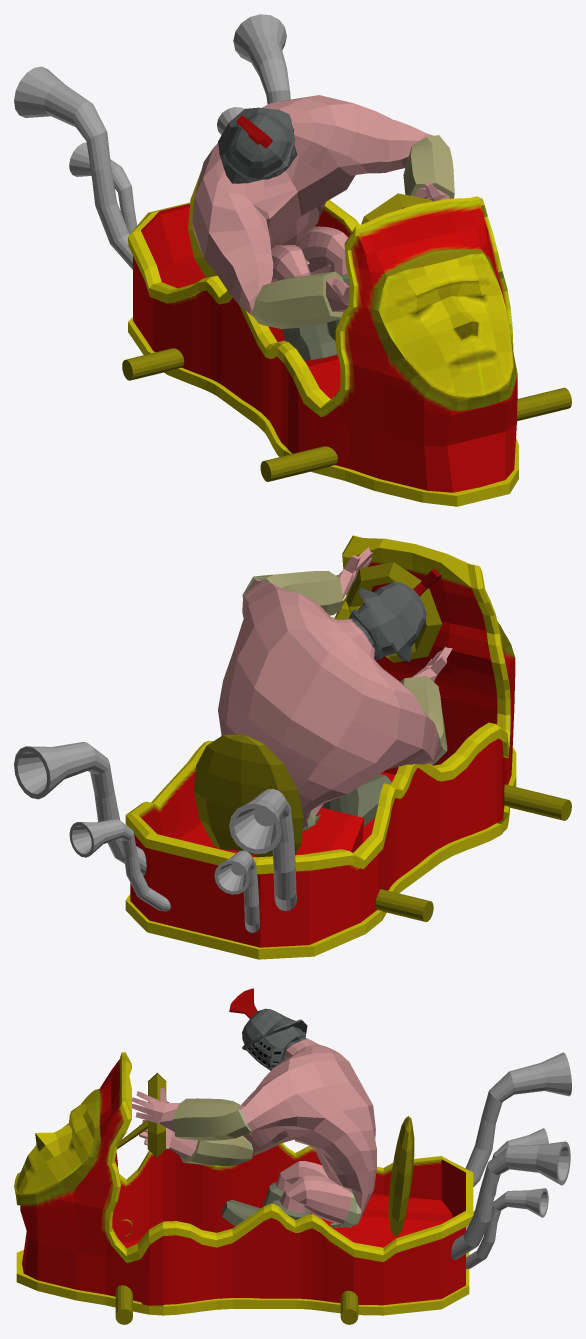
Rendered from GladiGiroDer_000554.obj.
The picture shows the model from 3 angles, top to bottom: view 1: azimuth 30°, elevation 25°; view 2: azimuth 150°, elevation 25°; view 3: azimuth 270°, elevation 25°; orthographic projection. The views are drawn at different scales.
Parts seen in each view (by area): view 1: GladiChasis_GladiChasisH, Gadiador_Gladiador_H, GladiTubos_GladiTubosH, GladiVolante_GladiVolanteH; view 2: GladiChasis_GladiChasisH, Gadiador_Gladiador_H, GladiTubos_GladiTubosH, GladiVolante_GladiVolanteH; view 3: GladiChasis_GladiChasisH, Gadiador_Gladiador_H, GladiTubos_GladiTubosH, GladiVolante_GladiVolanteH.
Boxes of the visible parts, bbox=[...] form: GladiChasis_GladiChasisH: bbox=[128, 196, 518, 506]; Gadiador_Gladiador_H: bbox=[192, 95, 454, 360]; GladiTubos_GladiTubosH: bbox=[14, 14, 290, 269]; GladiVolante_GladiVolanteH: bbox=[122, 172, 571, 481]; GladiChasis_GladiChasisH: bbox=[125, 535, 516, 959]; Gadiador_Gladiador_H: bbox=[218, 547, 452, 830]; GladiTubos_GladiTubosH: bbox=[14, 742, 296, 932]; GladiVolante_GladiVolanteH: bbox=[193, 562, 571, 921]; GladiChasis_GladiChasisH: bbox=[14, 1052, 473, 1315]; Gadiador_Gladiador_H: bbox=[132, 988, 376, 1227]; GladiTubos_GladiTubosH: bbox=[451, 1052, 571, 1269]; GladiVolante_GladiVolanteH: bbox=[115, 1072, 414, 1324].
Size of the model in its own units: 5.46 by 5.24 by 10.78.
4 materials, 4 textured.
